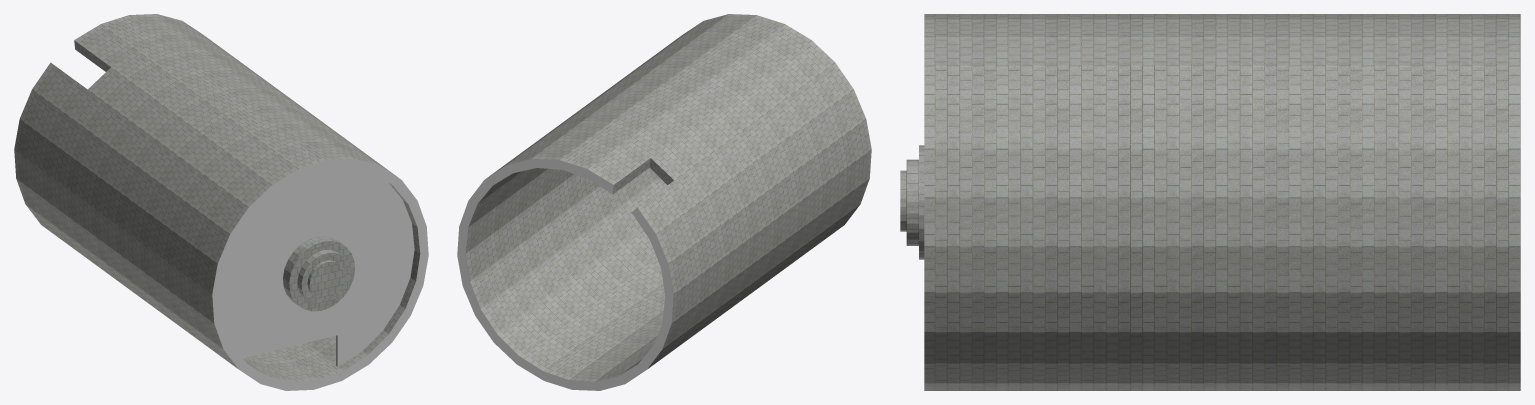
File: Tower Mk1.obj
3 renders of one model, left to right at view 1: azimuth 30°, elevation 25°; view 2: azimuth 150°, elevation 25°; view 3: azimuth 270°, elevation 25°, orthographic. The views are drawn at different scales.
Visible parts, largest first — view 1: Object.1, Object.2; view 2: Object.1; view 3: Object.1, Object.2.
Boxes of the visible parts, bbox=[...] form: Object.1: bbox=[14, 14, 428, 390]; Object.2: bbox=[283, 236, 354, 311]; Object.1: bbox=[457, 14, 871, 390]; Object.1: bbox=[924, 14, 1520, 390]; Object.2: bbox=[900, 145, 924, 259].
Bounding box in the file's own units: 247 × 247 × 407.
